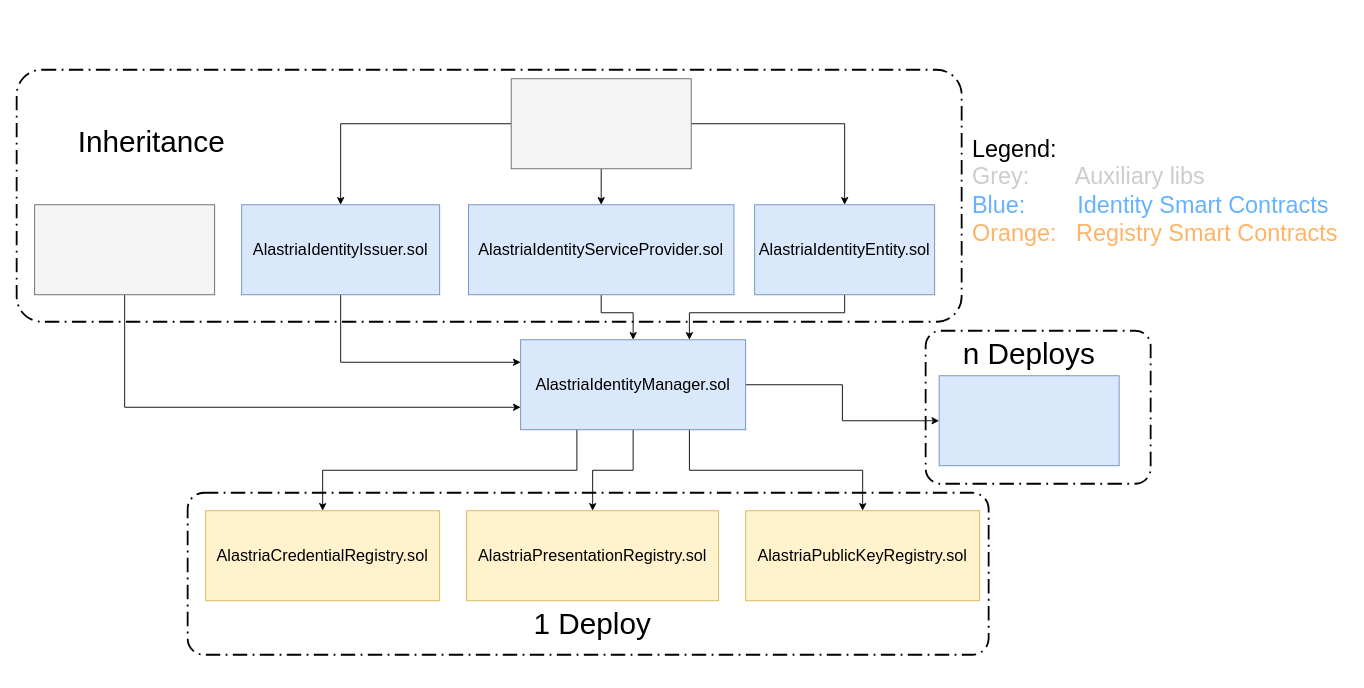
The diagram is 1364 pixels wide and 688 high, and some of its shapes have lost their labels. The shapes that lost their labels are listed below. From the top down, each one's centre as x and y in pixels, then its label:
point 600,123: Eidas.sol
point 124,249: Owned.sol
point 1028,420: AlastriaProxy.sol
